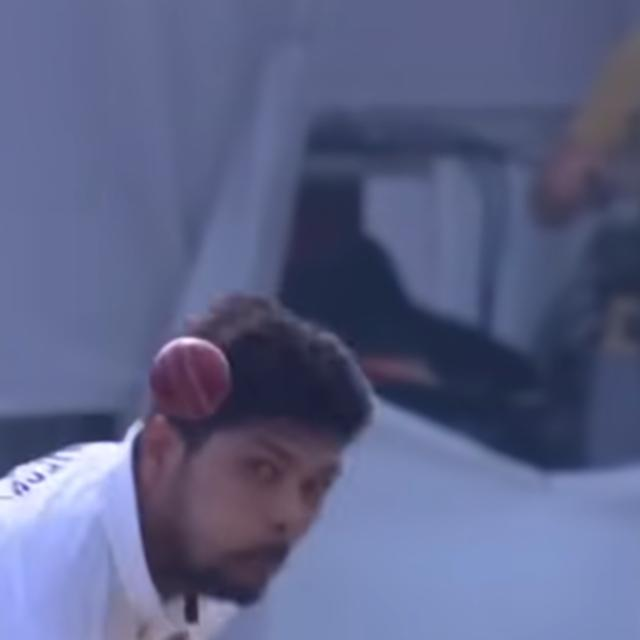ball: (144, 333, 245, 423)
